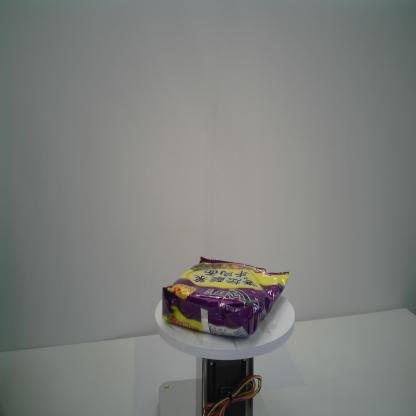Instant Noodles: (162, 256, 290, 337)
